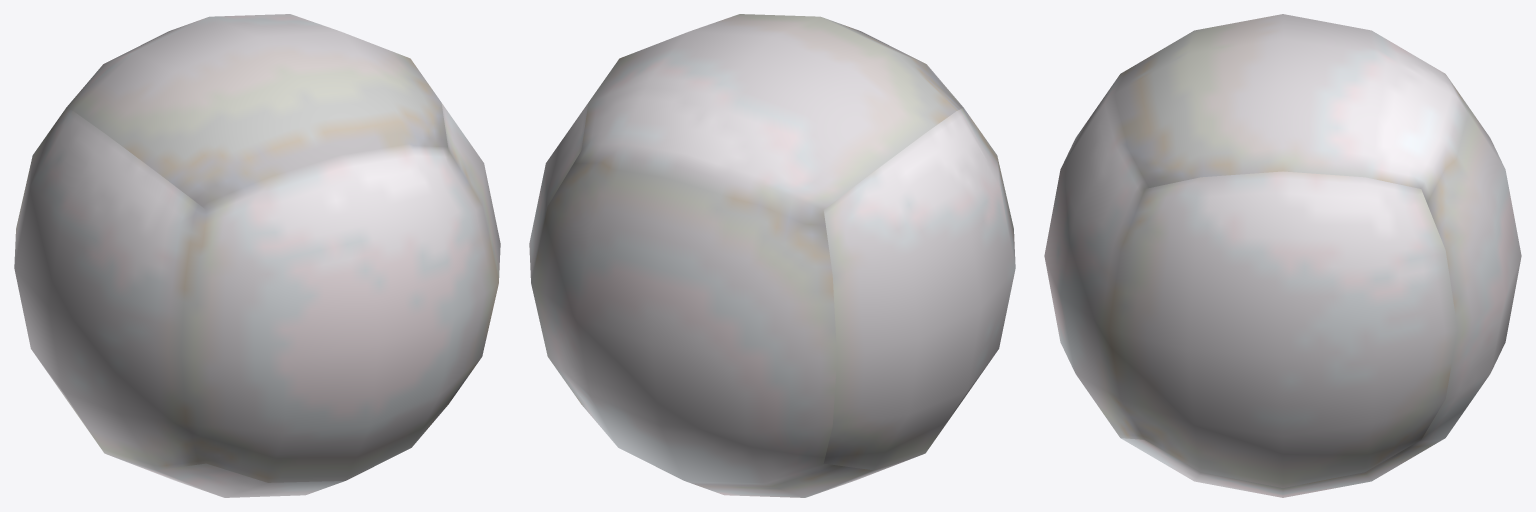
Rendered from PointDefense.obj.
3 views of the same model, side by side, from view 1: azimuth 30°, elevation 25°; view 2: azimuth 150°, elevation 25°; view 3: azimuth 270°, elevation 25° (orthographic).
Visible parts, largest first — view 1: PointDefense; view 2: PointDefense; view 3: PointDefense.
Boxes of the visible parts, <box> form: PointDefense: <box>14,14,500,497</box>; PointDefense: <box>529,14,1015,497</box>; PointDefense: <box>1044,14,1521,497</box>.
Size of the model in its own units: 8.56 by 8.56 by 8.56.
Materials: 1 (1 with a texture image).
